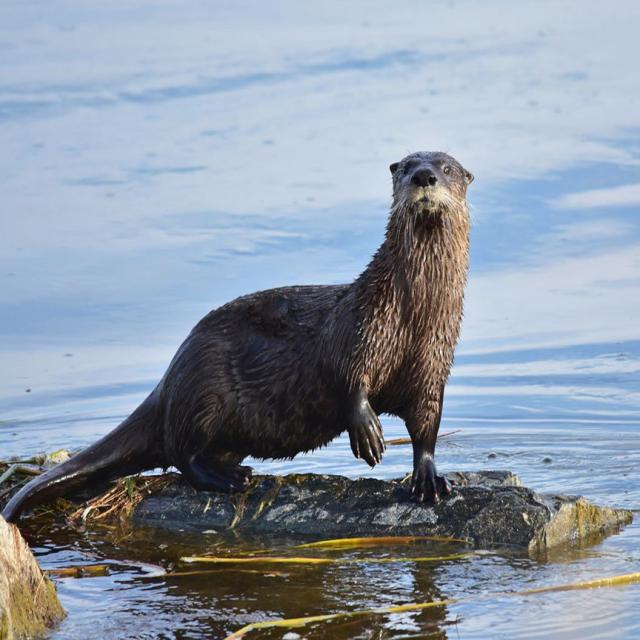Otter: (0, 141, 475, 523)
